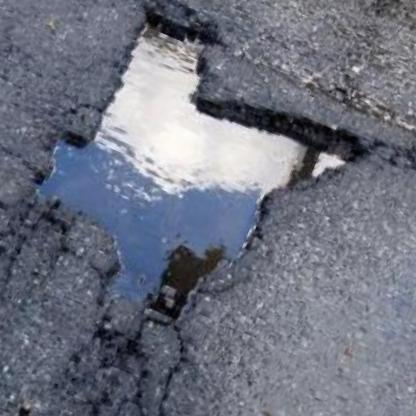pothole: (0, 0, 395, 386)
